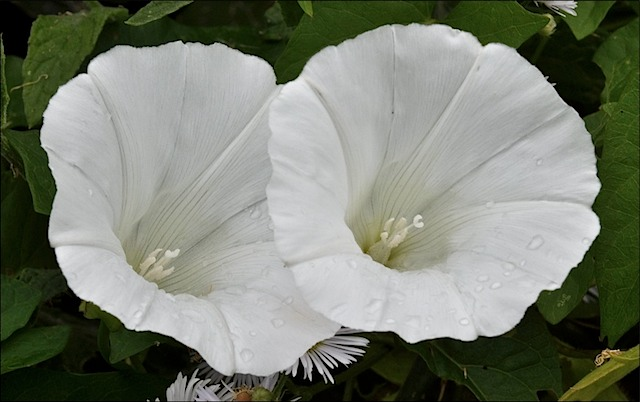haagwinde: (29, 17, 629, 387)
